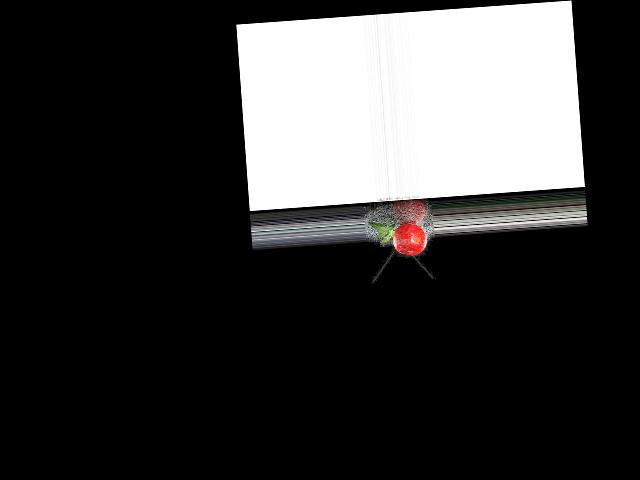tomato: (391, 222, 427, 256)
